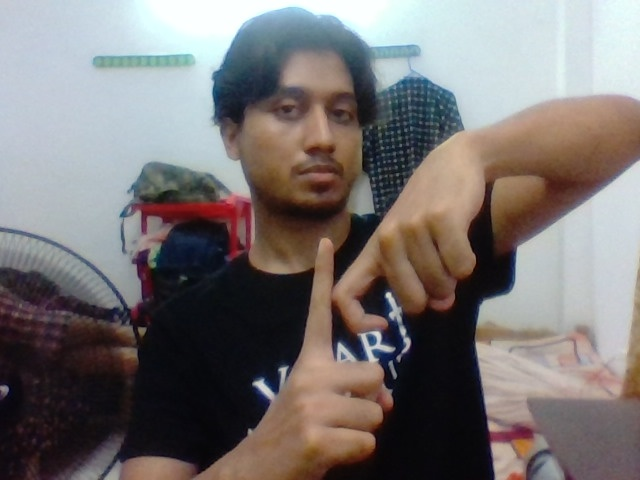K: (270, 224, 411, 474)
